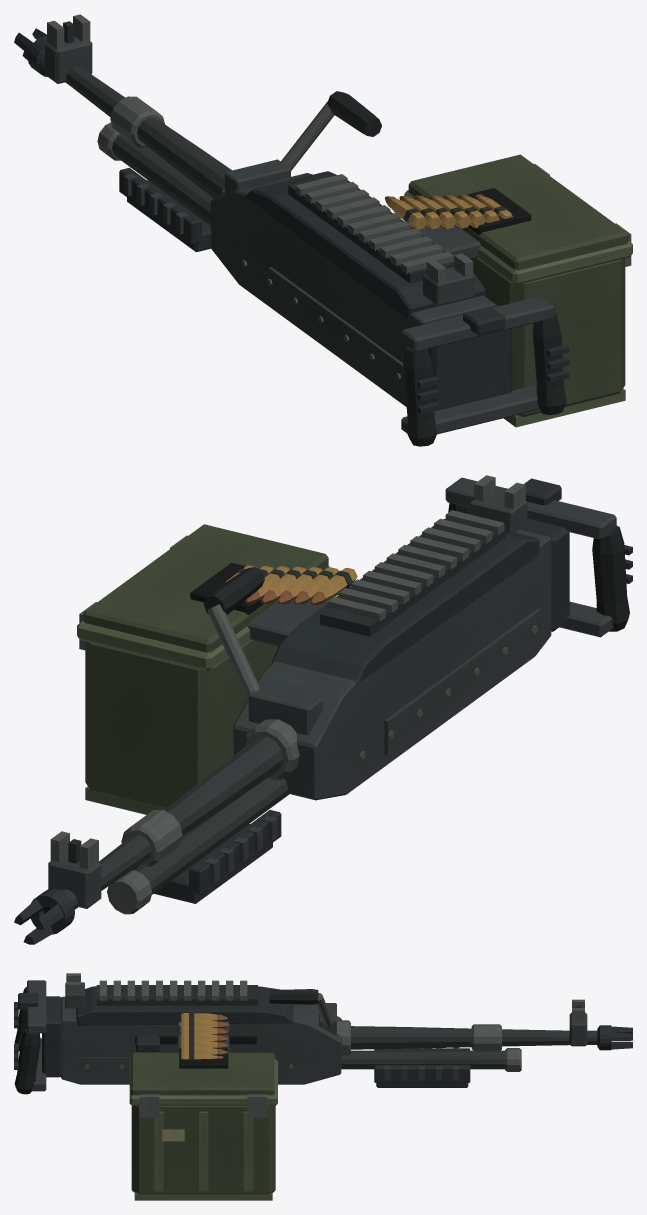
Rendered from Gun76251Air_Chin.obj.
The picture shows the model from 3 angles, top to bottom: view 1: azimuth 30°, elevation 25°; view 2: azimuth 150°, elevation 25°; view 3: azimuth 270°, elevation 25°; orthographic projection. The views are drawn at different scales.
Visible parts, largest first — view 1: Receiver_stamped_shell, Ammo_can_bevel_shell, Ammo_can_lid, Feed_cover_tapered, Rear_grip_backplate, Stamped_reinforcement_L, Barrel_tapered_steel, Spade_yoke_-0.194, Lower_fore_tube, Spade_yoke_-0.317, Rubber_spade_grip_-1, Ammo_can_folded_rim (+14 smaller); view 2: Receiver_stamped_shell, Ammo_can_bevel_shell, Ammo_can_lid, Feed_cover_tapered, Barrel_tapered_steel, Stamped_reinforcement_L, Lower_fore_tube, Ammo_can_folded_rim, Spade_yoke_-0.194, Rubber_spade_grip_-1, Carry_handle_hinge, Rail_spine (+27 smaller); view 3: Ammo_can_bevel_shell, Receiver_stamped_shell, Ammo_can_lid, Feed_cover_tapered, Barrel_tapered_steel, Lower_fore_tube, Rail_spine, Rear_grip_backplate, Ammo_can_folded_rim, Fore_shield_rail_1, Rubber_spade_grip_1, Stamped_reinforcement_R (+19 smaller).
Part boxes in pixels (box(x1,y1,x2,y2)): Receiver_stamped_shell: box(210, 173, 495, 406); Ammo_can_bevel_shell: box(471, 257, 625, 417); Ammo_can_lid: box(408, 154, 628, 270); Feed_cover_tapered: box(245, 171, 485, 320); Rear_grip_backplate: box(421, 305, 512, 410); Stamped_reinforcement_L: box(268, 267, 405, 398); Barrel_tapered_steel: box(65, 66, 231, 198); Spade_yoke_-0.194: box(401, 296, 554, 350); Lower_fore_tube: box(112, 134, 213, 225); Spade_yoke_-0.317: box(401, 385, 539, 434); Rubber_spade_grip_-1: box(403, 346, 437, 446); Ammo_can_folded_rim: box(404, 190, 632, 284); Receiver_stamped_shell: box(233, 529, 551, 800); Ammo_can_bevel_shell: box(85, 639, 278, 809); Ammo_can_lid: box(83, 524, 328, 652); Feed_cover_tapered: box(272, 519, 539, 684); Barrel_tapered_steel: box(61, 736, 283, 909); Stamped_reinforcement_L: box(384, 608, 541, 755); Lower_fore_tube: box(134, 778, 289, 894); Ammo_can_folded_rim: box(77, 566, 329, 670); Spade_yoke_-0.194: box(445, 477, 616, 539); Rubber_spade_grip_-1: box(592, 525, 629, 631); Carry_handle_hinge: box(248, 684, 322, 735); Rail_spine: box(320, 526, 505, 636); Ammo_can_bevel_shell: box(131, 1106, 275, 1194); Receiver_stamped_shell: box(61, 996, 341, 1084); Ammo_can_lid: box(131, 1052, 274, 1095); Feed_cover_tapered: box(76, 986, 294, 1025); Barrel_tapered_steel: box(351, 1026, 597, 1049); Lower_fore_tube: box(341, 1050, 504, 1069); Rail_spine: box(96, 985, 257, 1005); Rear_grip_backplate: box(42, 996, 62, 1077); Ammo_can_folded_rim: box(129, 1059, 277, 1105); Fore_shield_rail_1: box(374, 1065, 470, 1082); Rubber_spade_grip_1: box(14, 1028, 40, 1094); Stamped_reinforcement_R: box(78, 1057, 130, 1077).
Bounding box in the file's own units: 0.4545 × 0.3455 × 1.19.
1 material, 1 textured.
